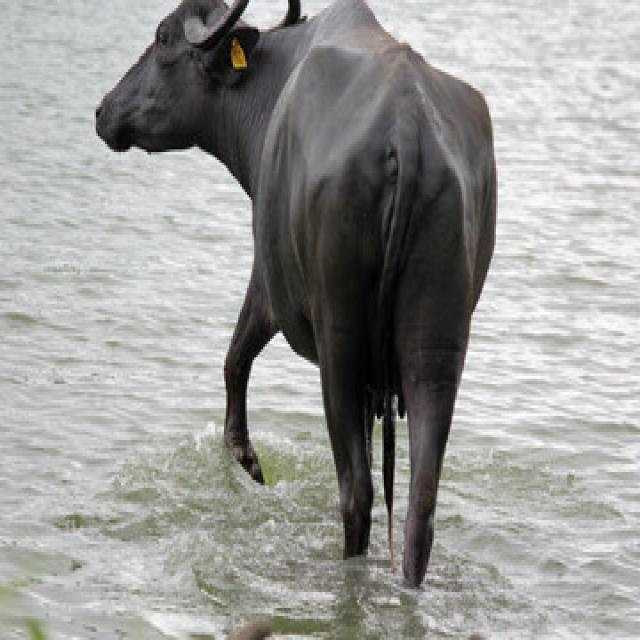Buffalo: (92, 0, 499, 589)
